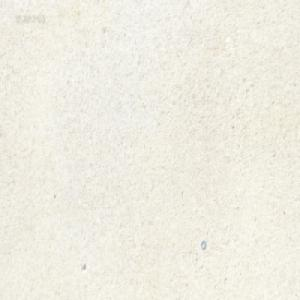Washer: (200, 240, 206, 250)
